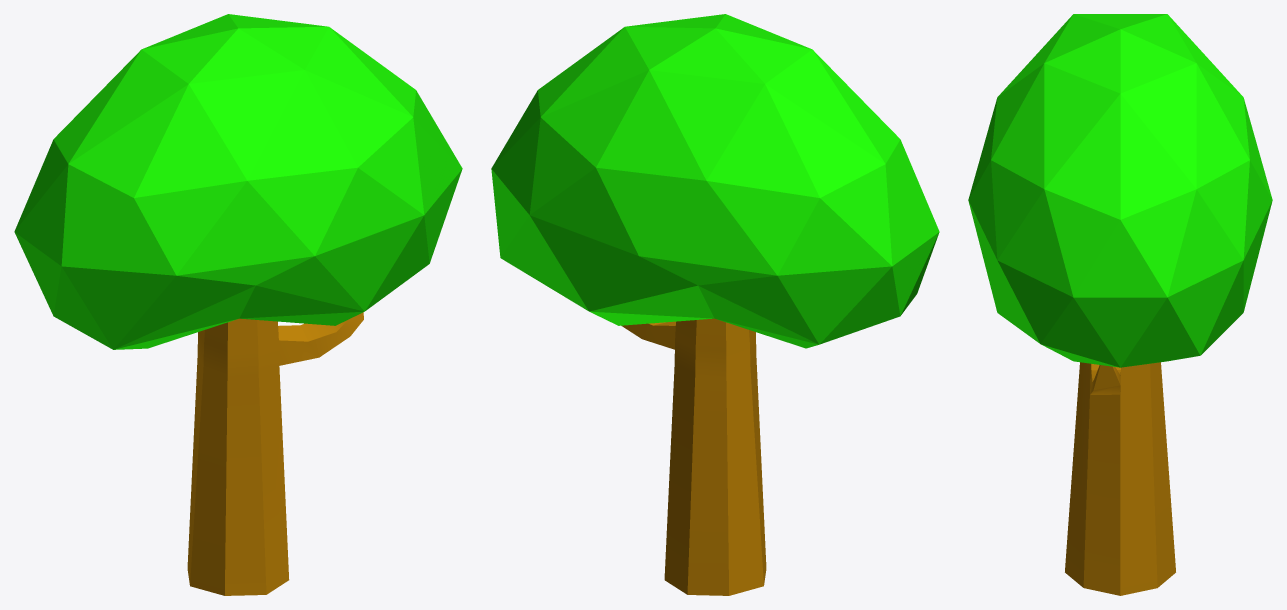
Rendered from Tree_4.fbx.
The picture shows the model from 3 angles, left to right: view 1: azimuth 30°, elevation 25°; view 2: azimuth 150°, elevation 25°; view 3: azimuth 270°, elevation 25°; orthographic projection.
Parts seen in each view (by area): view 1: Leaf, Trunk; view 2: Leaf, Trunk; view 3: Leaf, Trunk.
Part boxes in pixels (x1,y1,x2,y2): Leaf: [14, 14, 462, 349]; Trunk: [187, 312, 363, 595]; Leaf: [491, 14, 939, 348]; Trunk: [621, 318, 766, 595]; Leaf: [968, 14, 1272, 367]; Trunk: [1065, 362, 1175, 595].
Size of the model in its own units: 116 by 151 by 76.87.
